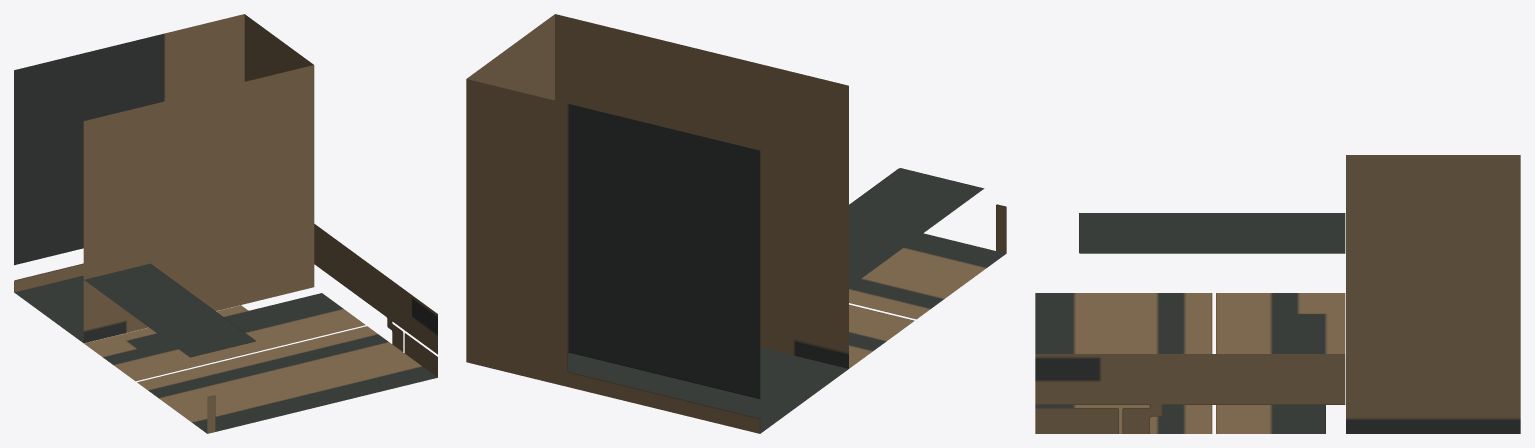
The model's file is section-5.obj.
3 renders of one model, left to right at view 1: azimuth 30°, elevation 25°; view 2: azimuth 150°, elevation 25°; view 3: azimuth 270°, elevation 25°, orthographic. The views are drawn at different scales.
Size of the model in its own units: 0.828 by 0.763 by 1.2.
